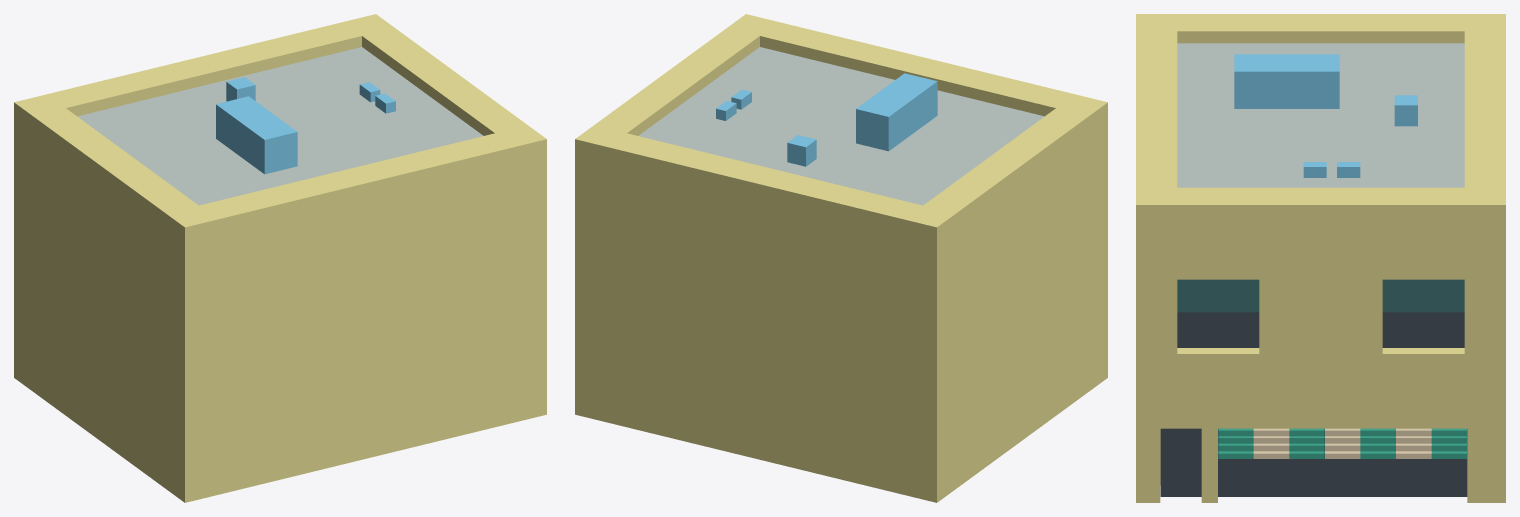
The model's file is building2_final.fbx.
3 views of the same model, side by side, from view 1: azimuth 30°, elevation 25°; view 2: azimuth 150°, elevation 25°; view 3: azimuth 270°, elevation 25° (orthographic). The views are drawn at different scales.
Visible parts, largest first — view 1: pCube4806, pCube4720, pCube4812, pCube4749, pCube4703, pCube4715, pCube4220, pCube4512, pCube4319, pCube4423, pCube4623, pCube4112 (+50 smaller); view 2: pCube4791, pCube4708, pCube4663, pCube4727, pCube4730, pCube4438, pCube4047, pCube4510, pCube4323, pCube4197, pCube4537, pCube4327 (+50 smaller); view 3: pCube4806, pCube4830, pCube4747, pCube4805, pCube4377, pCube4311, pCube4434, pCube4421, pCube4619, pCube4584, pCube4483, pCube4114 (+38 smaller).
Part boxes in pixels (<box>): pCube4806: <box>443,111,546,223</box>; pCube4720: <box>377,138,481,239</box>; pCube4812: <box>312,154,415,255</box>; pCube4749: <box>246,170,349,271</box>; pCube4703: <box>191,186,283,288</box>; pCube4715: <box>147,191,217,296</box>; pCube4220: <box>147,406,217,502</box>; pCube4512: <box>147,269,217,364</box>; pCube4319: <box>147,337,217,433</box>; pCube4423: <box>415,293,481,377</box>; pCube4623: <box>349,240,415,324</box>; pCube4112: <box>349,378,415,462</box>; pCube4791: <box>640,141,724,239</box>; pCube4708: <box>706,157,790,255</box>; pCube4663: <box>772,173,856,271</box>; pCube4727: <box>838,189,922,288</box>; pCube4730: <box>575,125,659,223</box>; pCube4438: <box>640,293,706,377</box>; pCube4047: <box>706,378,772,462</box>; pCube4510: <box>706,240,772,324</box>; pCube4323: <box>772,325,838,409</box>; pCube4197: <box>640,362,706,446</box>; pCube4537: <box>640,224,706,308</box>; pCube4327: <box>706,309,772,393</box>; pCube4806: <box>1136,170,1218,279</box>; pCube4830: <box>1218,182,1300,279</box>; pCube4747: <box>1382,182,1464,279</box>; pCube4805: <box>1300,182,1382,279</box>; pCube4377: <box>1382,348,1464,428</box>; pCube4311: <box>1136,348,1218,428</box>; pCube4434: <box>1218,348,1300,428</box>; pCube4421: <box>1300,354,1382,428</box>; pCube4619: <box>1300,279,1382,353</box>; pCube4584: <box>1136,279,1218,353</box>; pCube4483: <box>1218,279,1300,353</box>; pCube4114: <box>1136,428,1217,502</box>.
Bounding box in the file's own units: 22.55 × 17.11 × 17.72.
